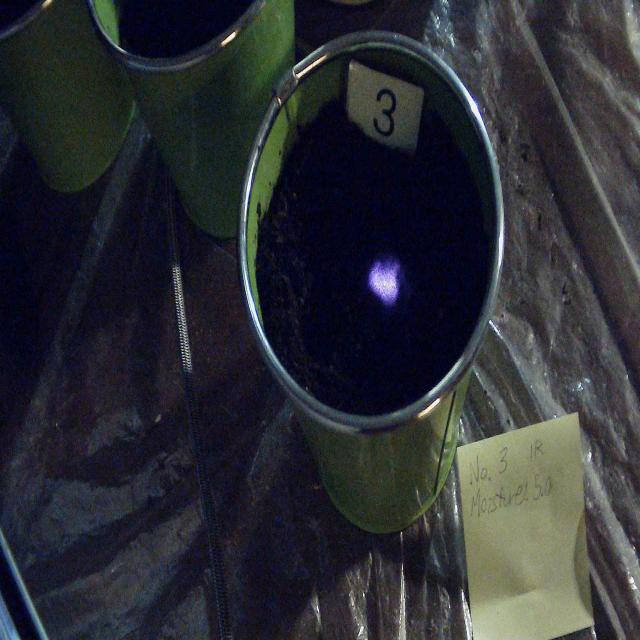soil-moisture-5.0: (367, 257, 402, 305)
